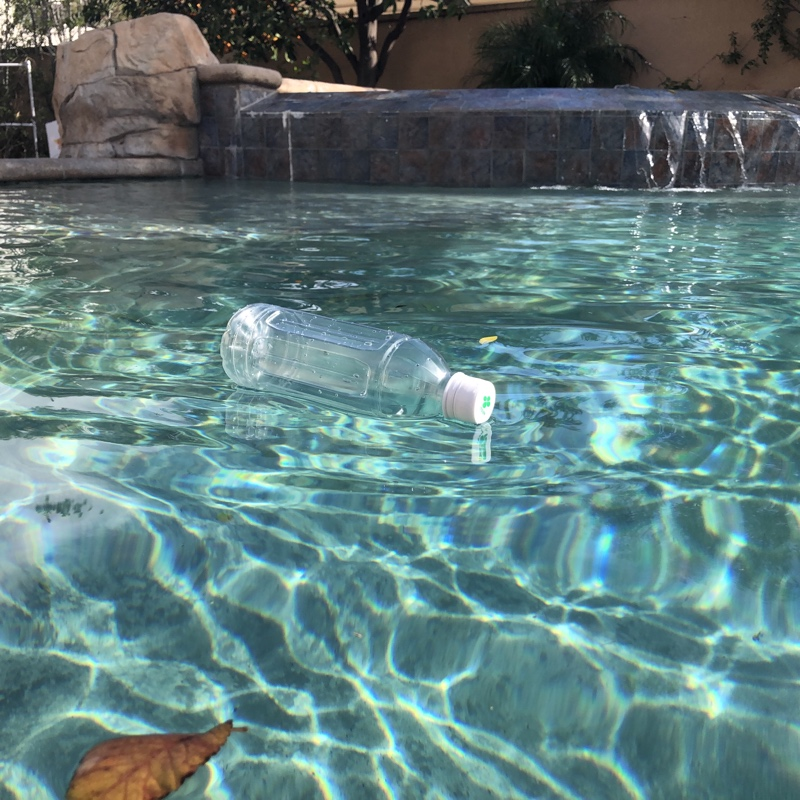Plastic Bottle: (216, 295, 499, 430)
